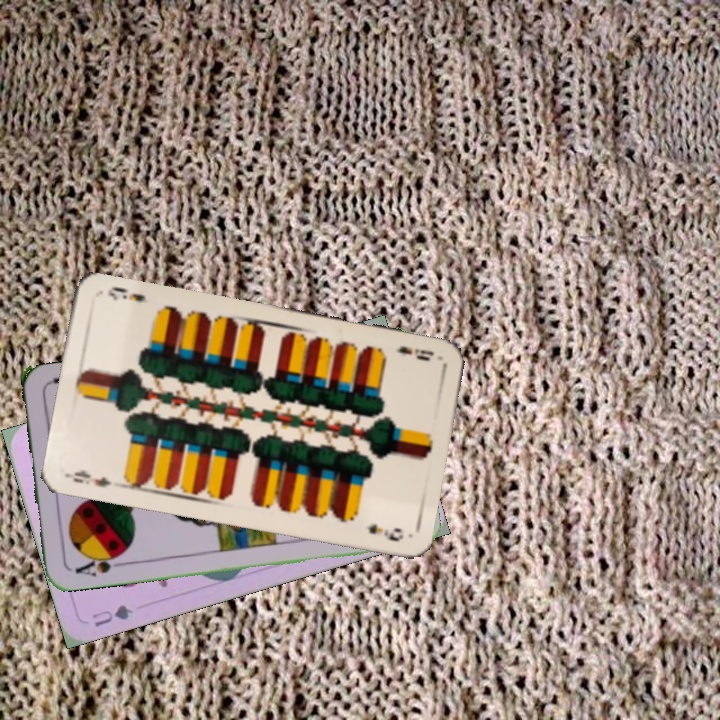E9: (64, 466, 114, 490), (391, 342, 437, 364)
GU: (87, 600, 136, 630)
SA: (71, 549, 127, 580)
